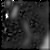node: (10, 4, 19, 21), (4, 1, 12, 8)
